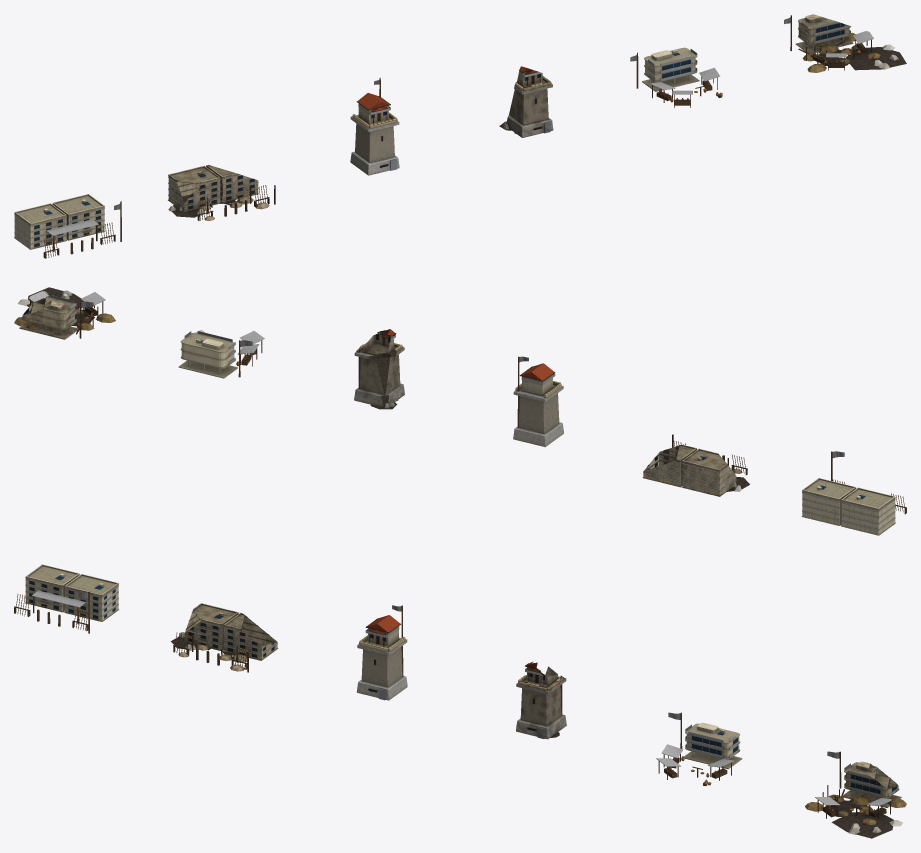
The model's file is rts-modern-israelite.glb.
3 renders of one model, top to bottom at view 1: azimuth 30°, elevation 25°; view 2: azimuth 150°, elevation 25°; view 3: azimuth 330°, elevation 25°, orthographic. The views are drawn at different scales.
Parts seen in each view (by area): view 1: LOD0, LOD0.005, LOD0.001, LOD0.002, LOD0.004, LOD0.003; view 2: LOD0, LOD0.001, LOD0.005, LOD0.002, LOD0.003, LOD0.004; view 3: LOD0.005, LOD0, LOD0.001, LOD0.002, LOD0.004, LOD0.003.
Boxes of the visible parts, x1,y1,x2,y2 form: LOD0: (14, 194, 121, 258); LOD0.005: (784, 14, 906, 72); LOD0.001: (168, 164, 275, 220); LOD0.002: (350, 77, 399, 175); LOD0.004: (630, 47, 722, 107); LOD0.003: (499, 66, 553, 137); LOD0: (801, 451, 906, 535); LOD0.001: (642, 434, 749, 496); LOD0.005: (14, 287, 115, 339); LOD0.002: (513, 356, 563, 447); LOD0.003: (354, 329, 404, 409); LOD0.004: (178, 330, 264, 378); LOD0.005: (805, 751, 906, 838); LOD0: (14, 564, 119, 633); LOD0.001: (171, 603, 278, 672); LOD0.002: (357, 605, 407, 700); LOD0.004: (656, 712, 742, 785); LOD0.003: (516, 661, 566, 739).
Size of what is drawn, in the model's own units: 16.7 by 1.48 by 1.62.
Materials: 2 (2 with a texture image).
